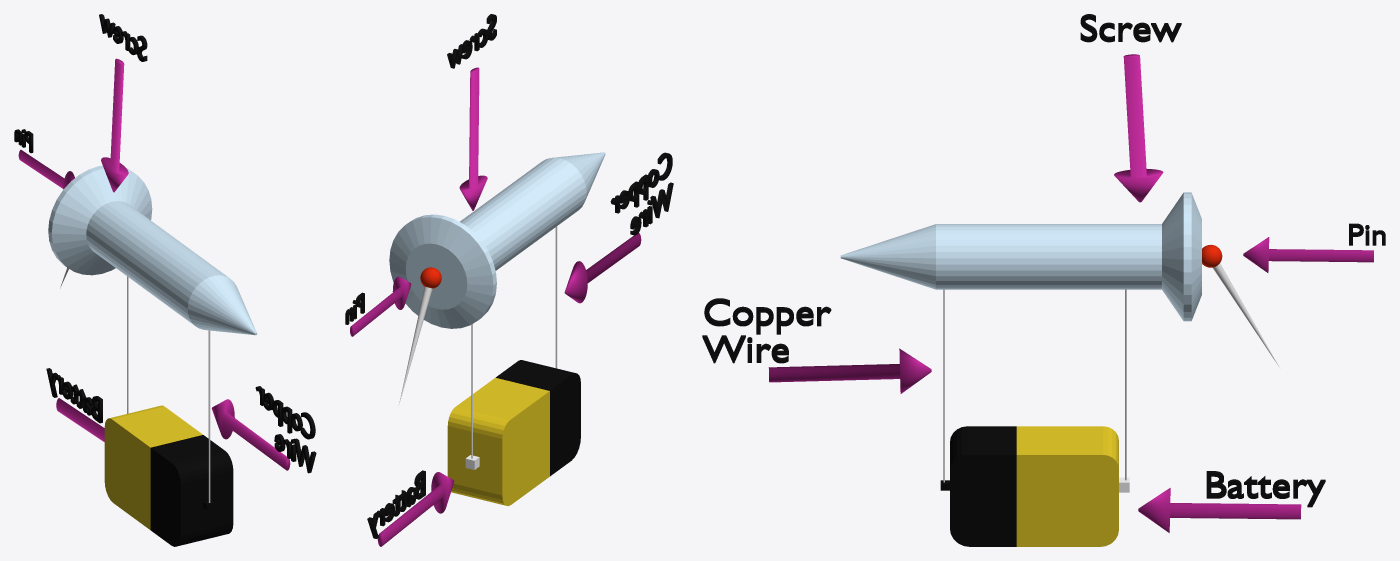
Rendered from Electromagnet.glb.
3 renders of one model, left to right at view 1: azimuth 30°, elevation 25°; view 2: azimuth 150°, elevation 25°; view 3: azimuth 270°, elevation 25°, orthographic. The views are drawn at different scales.
Visible parts, largest first — view 1: Cylinder, Cube, Text.001, Cylinder.005, Cylinder.004, Text, Text.002, Cylinder.008, Cylinder.006, Cylinder.002; view 2: Cylinder, Cube, Text.001, Cylinder.005, Cylinder.008, Cylinder.004, Text, Cylinder.006, Cylinder.001, Text.002, Cylinder.002; view 3: Cylinder, Cube, Cylinder.005, Text.001, Cylinder.004, Cylinder.008, Cylinder.006, Text, Text.002, Cylinder.001.
Boxes of the visible parts, bbox=[...] form: Cylinder: bbox=[48, 165, 257, 335]; Cube: bbox=[104, 405, 233, 546]; Text.001: bbox=[255, 386, 316, 473]; Cylinder.005: bbox=[101, 58, 128, 192]; Cylinder.004: bbox=[211, 399, 290, 470]; Text: bbox=[46, 368, 102, 423]; Text.002: bbox=[99, 14, 147, 61]; Cylinder.008: bbox=[56, 398, 104, 441]; Cylinder.006: bbox=[18, 150, 74, 189]; Cylinder.002: bbox=[208, 330, 210, 502]; Cylinder: bbox=[389, 152, 605, 328]; Cube: bbox=[447, 360, 580, 506]; Text.001: bbox=[610, 152, 673, 235]; Cylinder.005: bbox=[459, 67, 487, 210]; Cylinder.008: bbox=[377, 472, 454, 546]; Cylinder.004: bbox=[564, 233, 641, 303]; Text: bbox=[367, 470, 425, 538]; Cylinder.006: bbox=[350, 276, 411, 336]; Cylinder.001: bbox=[399, 267, 441, 404]; Text.002: bbox=[447, 14, 496, 68]; Cylinder.002: bbox=[555, 226, 557, 368]; Cylinder: bbox=[840, 192, 1201, 321]; Cube: bbox=[940, 426, 1129, 546]; Cylinder.005: bbox=[1114, 54, 1163, 202]; Text.001: bbox=[702, 298, 831, 363]; Cylinder.004: bbox=[768, 348, 931, 393]; Cylinder.008: bbox=[1138, 488, 1301, 532]; Cylinder.006: bbox=[1243, 237, 1373, 272]; Text: bbox=[1206, 471, 1325, 507]; Text.002: bbox=[1080, 14, 1181, 42]; Cylinder.001: bbox=[1202, 244, 1279, 367].
Bounding box in the file's own units: 0.9963 × 4.39 × 5.27.
